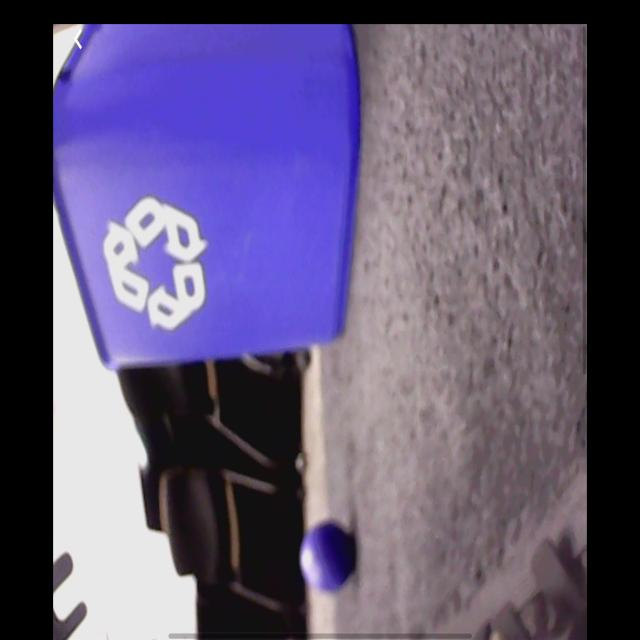ball: (300, 521, 353, 589)
